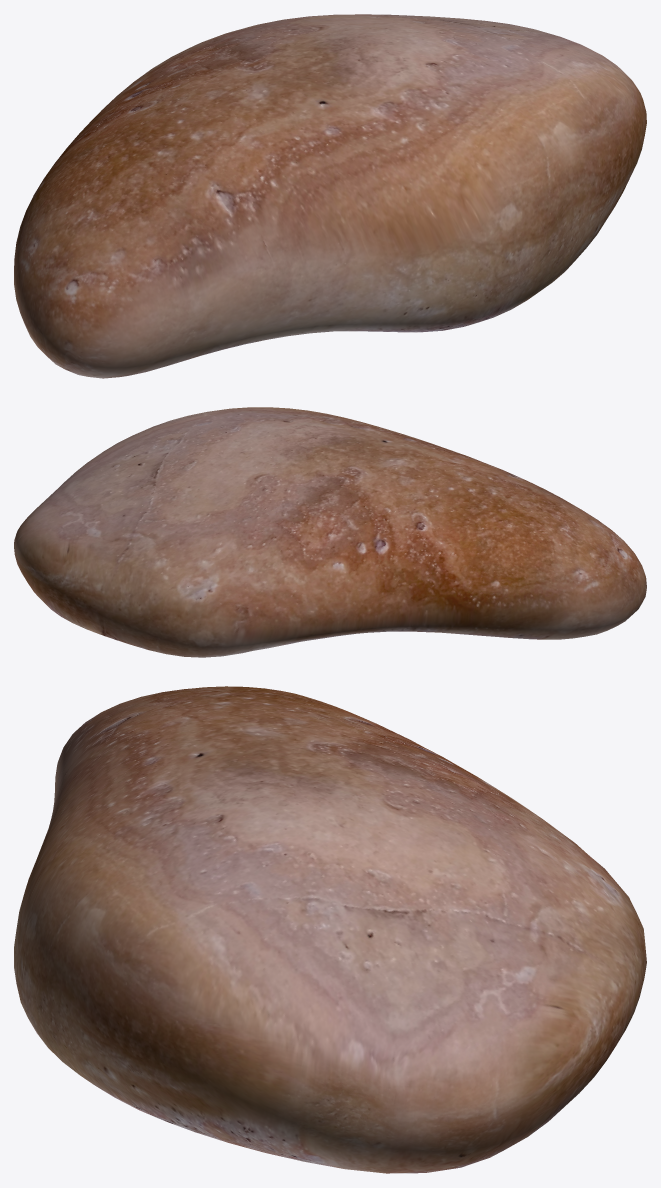
Rendered from BeachRock10.fbx.
The picture shows the model from 3 angles, top to bottom: view 1: azimuth 30°, elevation 25°; view 2: azimuth 150°, elevation 25°; view 3: azimuth 270°, elevation 25°; orthographic projection. The views are drawn at different scales.
Visible parts, largest first — view 1: BeachRock10_LOD0; view 2: BeachRock10_LOD0; view 3: BeachRock10_LOD0.
Part boxes in pixels (bbox=[...]): BeachRock10_LOD0: bbox=[14, 14, 646, 378]; BeachRock10_LOD0: bbox=[14, 407, 646, 657]; BeachRock10_LOD0: bbox=[14, 686, 646, 1173].
Size of what is drawn, in the model's own units: 47.05 by 15.08 by 32.74.
